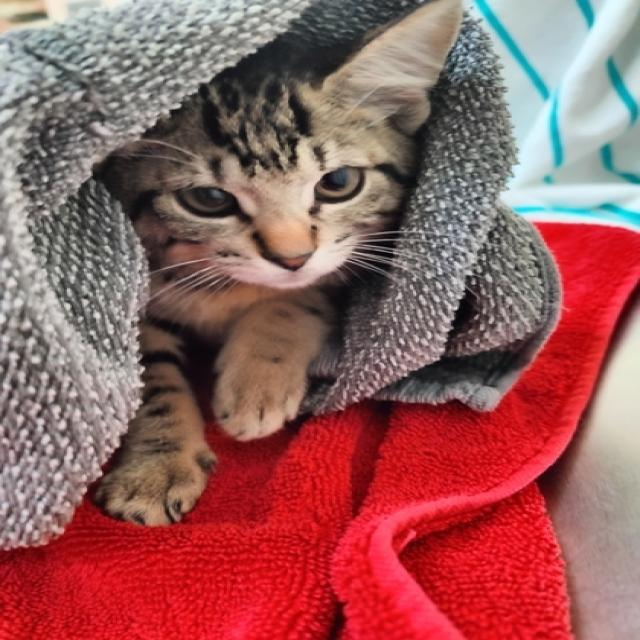domestic_short_hair_cat: (69, 0, 502, 320)
